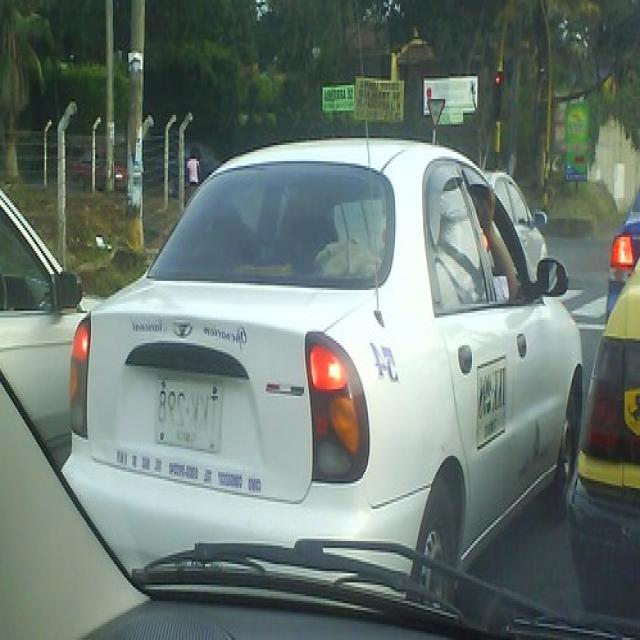placas: (156, 384, 221, 434)
